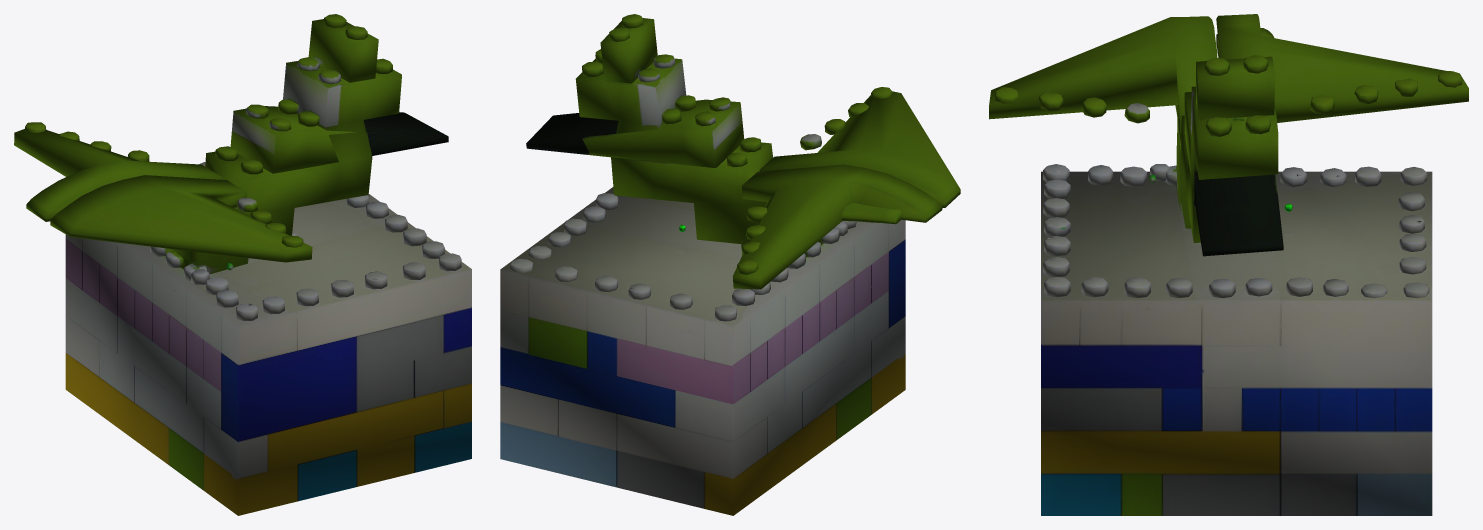
The model's file is object_54_asset_2bada73a.glb.
The picture shows the model from 3 angles, left to right: view 1: azimuth 30°, elevation 25°; view 2: azimuth 150°, elevation 25°; view 3: azimuth 270°, elevation 25°; orthographic projection. The views are drawn at different scales.
Visible parts, largest first — view 1: tripo_node_575d4589-b6b7-4d2b-9b94-40ddbdcd2936; view 2: tripo_node_575d4589-b6b7-4d2b-9b94-40ddbdcd2936; view 3: tripo_node_575d4589-b6b7-4d2b-9b94-40ddbdcd2936.
Boxes of the visible parts, <box> form: tripo_node_575d4589-b6b7-4d2b-9b94-40ddbdcd2936: <box>14,14,471,515</box>; tripo_node_575d4589-b6b7-4d2b-9b94-40ddbdcd2936: <box>500,14,960,515</box>; tripo_node_575d4589-b6b7-4d2b-9b94-40ddbdcd2936: <box>989,14,1468,515</box>.
Size of the model in its own units: 0.998 by 0.916 by 0.9199.
Materials: 1 (1 with a texture image).
